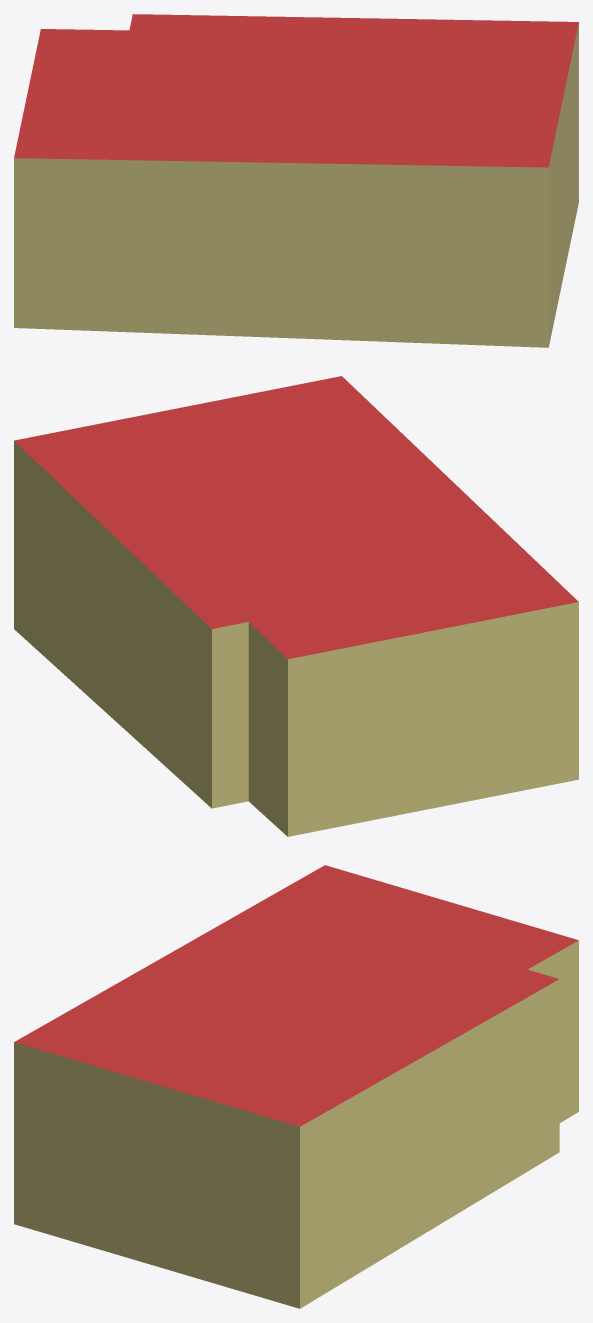
3 renders of one model, top to bottom at view 1: azimuth 30°, elevation 25°; view 2: azimuth 150°, elevation 25°; view 3: azimuth 270°, elevation 25°, orthographic. The views are drawn at different scales.
Bounding box in the file's own units: 24.9 × 21.83 × 7.76.
